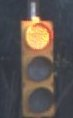Red: (16, 17, 57, 116)
